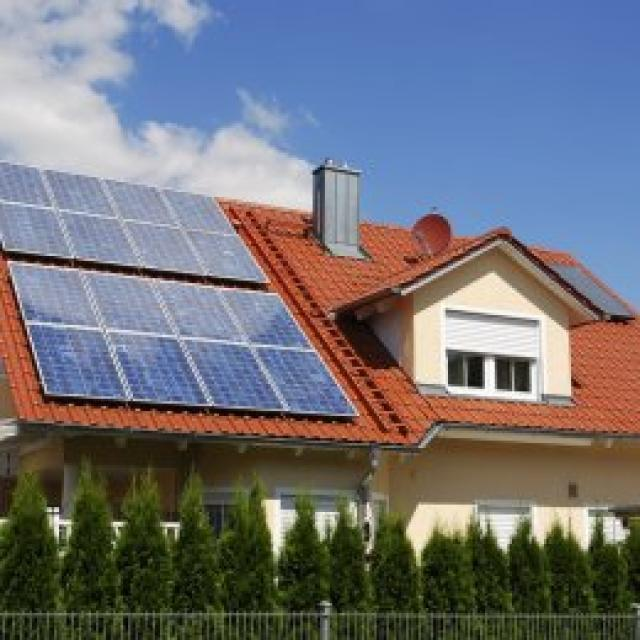clean-solar-panel: (0, 162, 367, 422)
